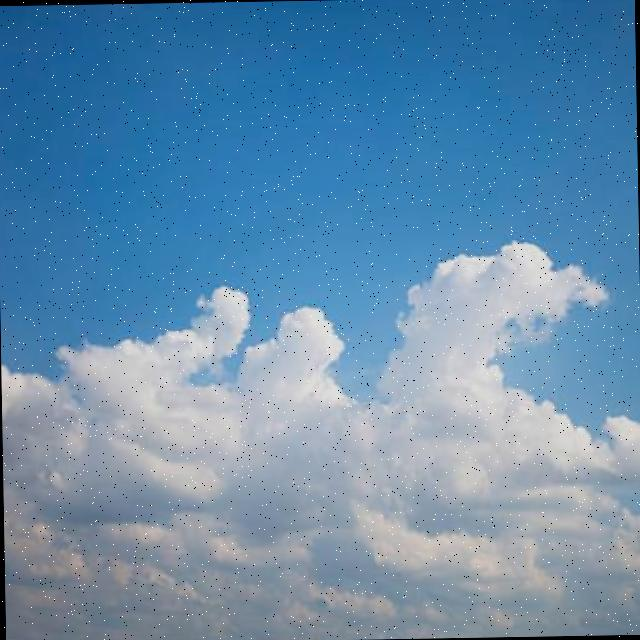Cc: (1, 232, 640, 613)
